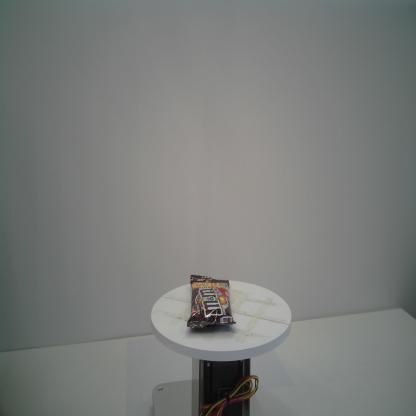Chocolate: (186, 274, 236, 328)
